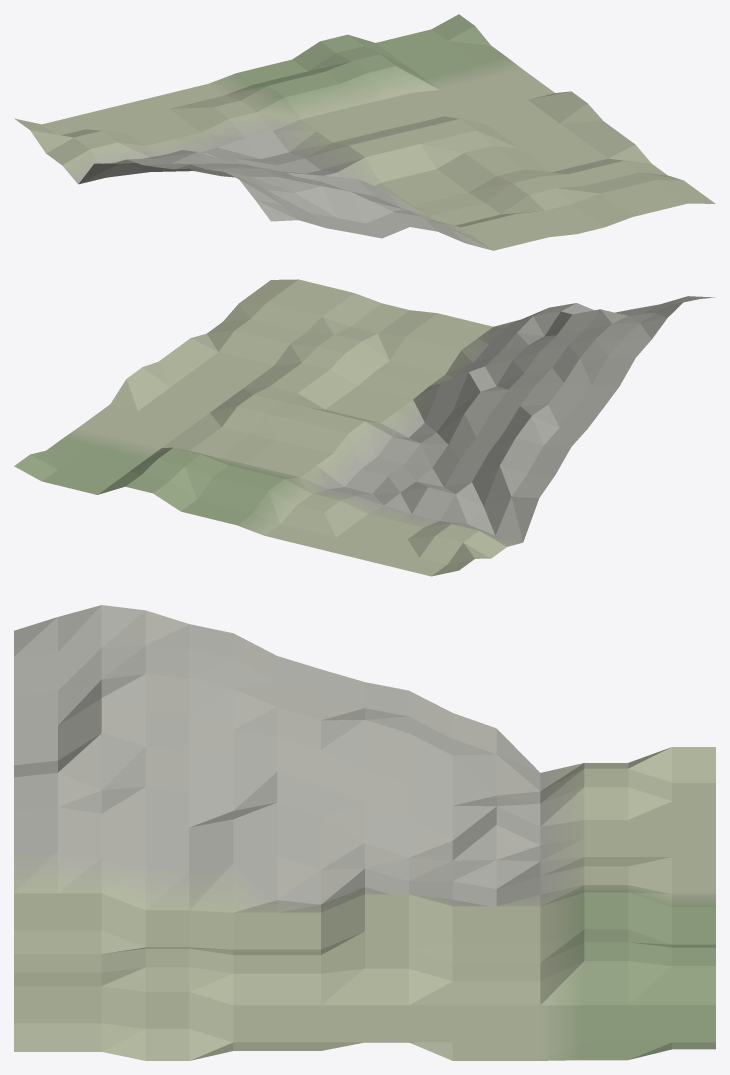
The picture shows the model from 3 angles, top to bottom: view 1: azimuth 30°, elevation 25°; view 2: azimuth 150°, elevation 25°; view 3: azimuth 270°, elevation 25°; orthographic projection. The views are drawn at different scales.
Bounding box in the file's own units: 32 × 8.69 × 32.
